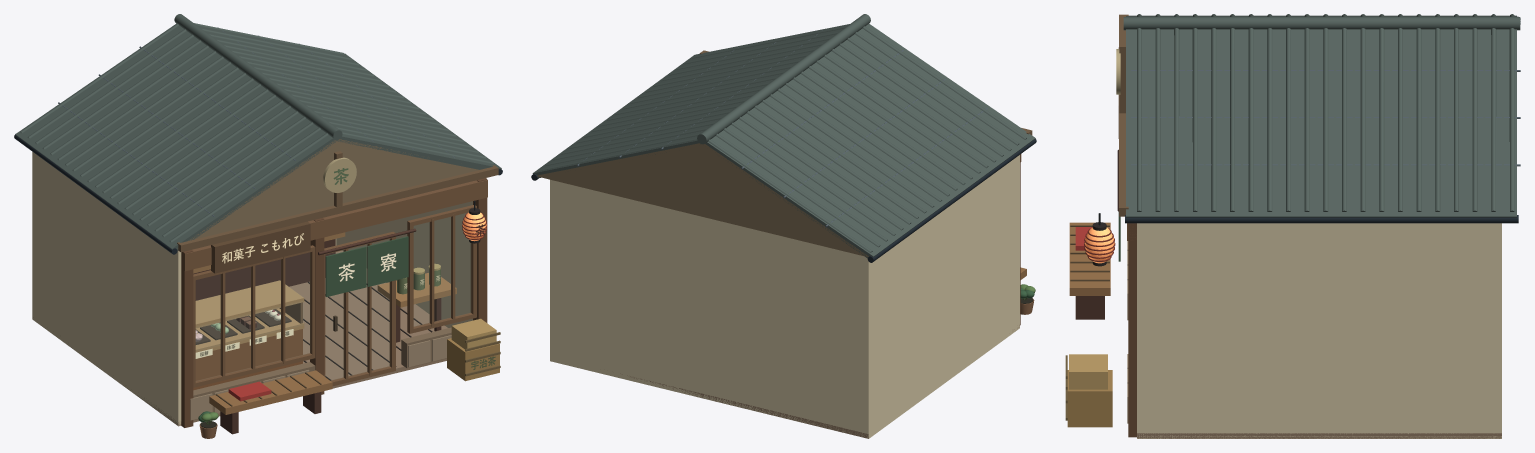
File: wagashi.glb
The picture shows the model from 3 angles, left to right: view 1: azimuth 30°, elevation 25°; view 2: azimuth 150°, elevation 25°; view 3: azimuth 270°, elevation 25°; orthographic projection. The views are drawn at different scales.
Parts seen in each view (by area): view 1: 木漏日和菓子店; view 2: 木漏日和菓子店; view 3: 木漏日和菓子店.
Part boxes in pixels (left/top/right/bottom): 木漏日和菓子店: left=14, top=14, right=502, bottom=438; 木漏日和菓子店: left=531, top=14, right=1036, bottom=438; 木漏日和菓子店: left=1065, top=14, right=1520, bottom=438.
Size of the model in its own units: 6.02 by 4.56 by 5.74.
72 materials, 13 textured.
